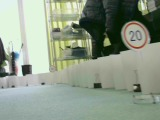speed_20: (121, 21, 149, 50)
